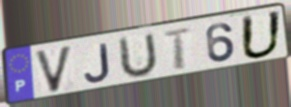6: (204, 22, 237, 64)
J: (83, 41, 113, 84)
T: (162, 26, 195, 72)
U: (239, 8, 284, 61), (118, 30, 160, 81)
V: (32, 43, 75, 96)
